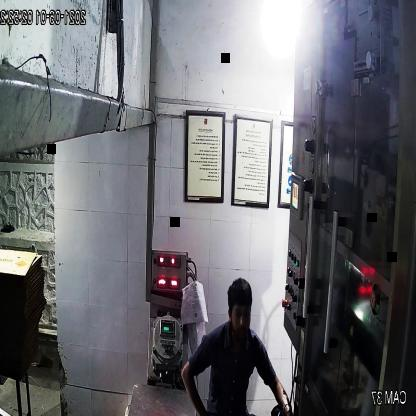no_goggles: (228, 300, 255, 322)
